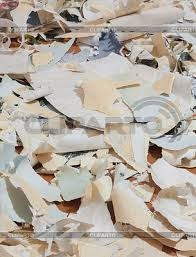paper: (6, 117, 114, 158), (107, 168, 168, 238), (98, 117, 160, 175), (73, 180, 121, 251), (10, 156, 71, 211), (74, 74, 130, 120), (55, 159, 109, 202), (1, 93, 64, 129), (147, 192, 196, 237), (148, 155, 196, 198), (143, 32, 178, 75), (19, 81, 59, 110), (148, 130, 196, 152), (145, 68, 179, 98)
